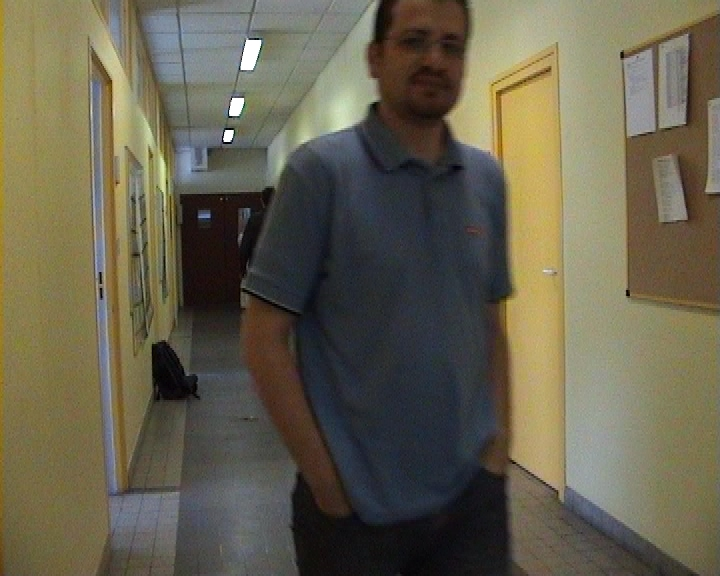leave bag unattended: (127, 318, 235, 468)
